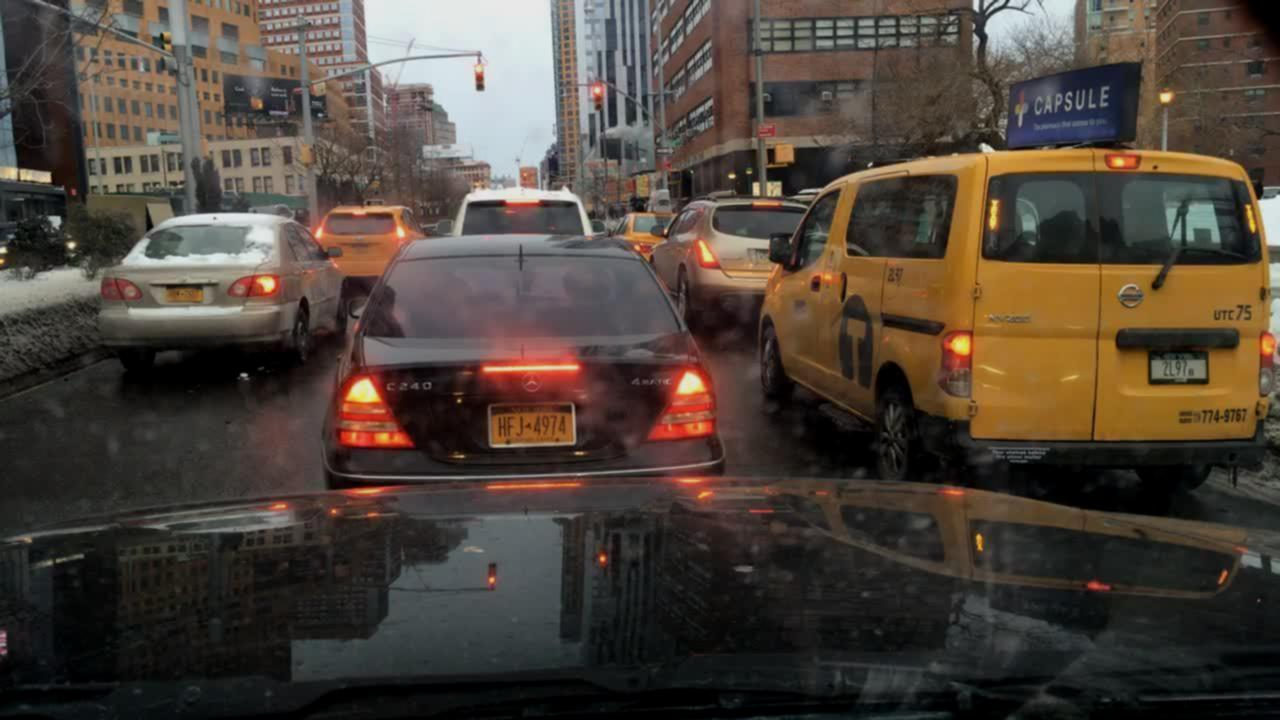Mercedes: (519, 369, 548, 399)
